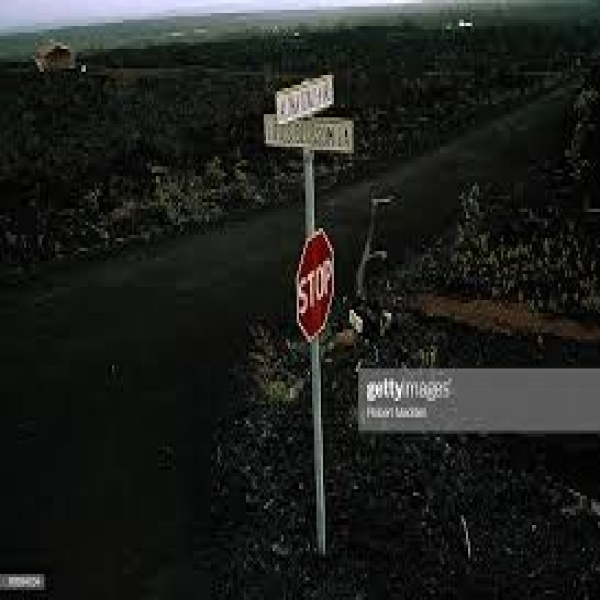stop: (342, 148, 392, 270)
